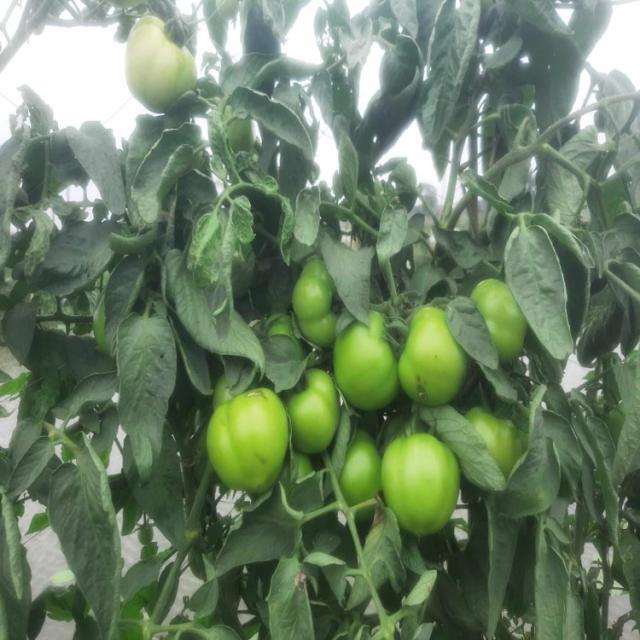tomato: (201, 388, 278, 493), (387, 428, 458, 539), (124, 16, 201, 116), (403, 298, 470, 408), (470, 273, 538, 362), (338, 316, 399, 411), (286, 368, 334, 460), (291, 251, 333, 347), (345, 432, 381, 513), (473, 410, 524, 467), (223, 108, 254, 150)
